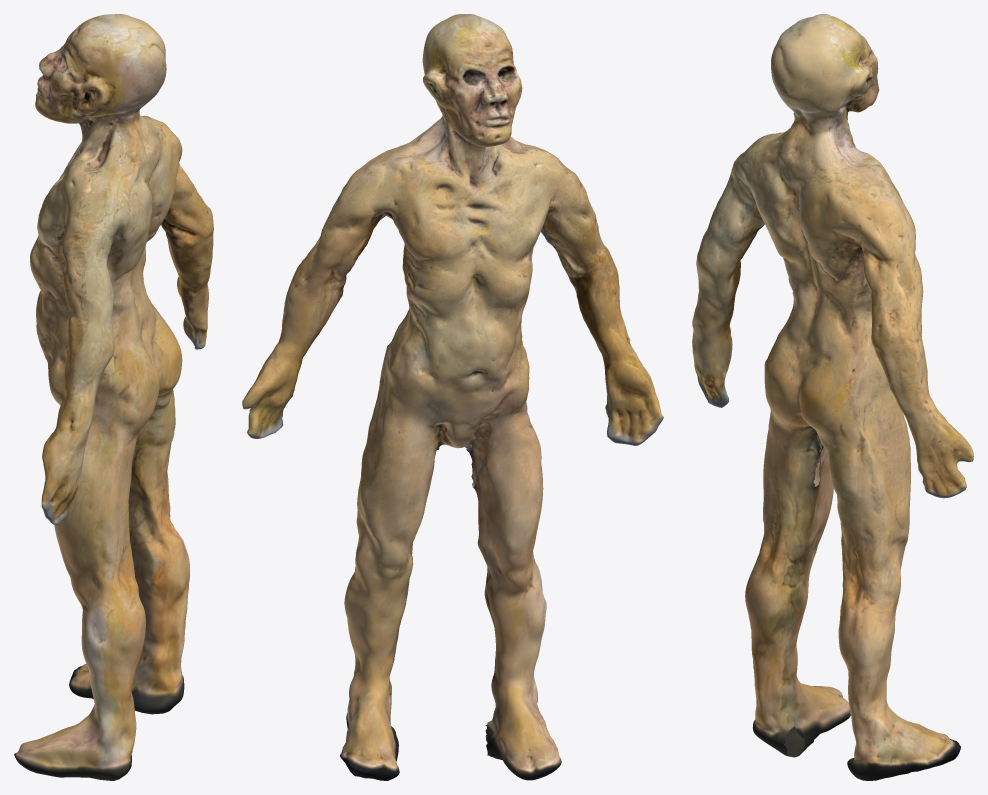
Rendered from Body1.fbx.
The picture shows the model from 3 angles, left to right: view 1: azimuth 30°, elevation 25°; view 2: azimuth 150°, elevation 25°; view 3: azimuth 270°, elevation 25°; orthographic projection.
Visible parts, largest first — view 1: 3DModel; view 2: 3DModel; view 3: 3DModel.
Part boxes in pixels (left/top/right/bottom): 3DModel: left=14, top=14, right=213, bottom=780; 3DModel: left=242, top=14, right=663, bottom=780; 3DModel: left=692, top=14, right=973, bottom=780.
Size of the model in its own units: 43.51 by 109 by 37.36.
